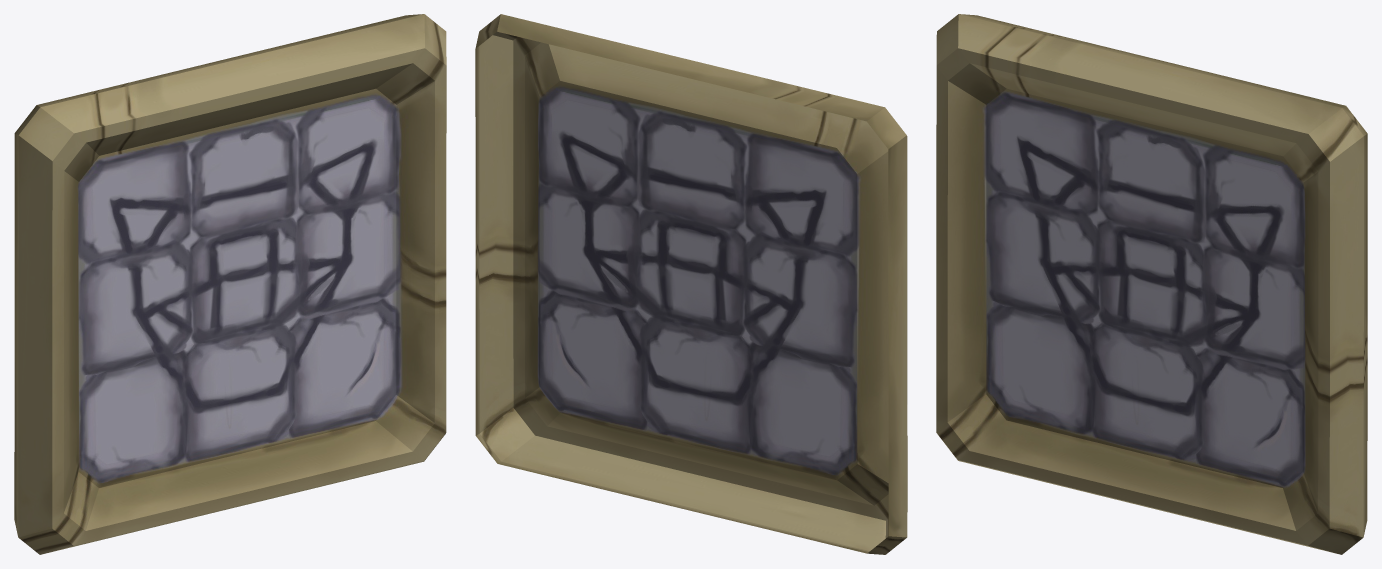
File: puzzle-all.fbx
3 views of the same model, side by side, from view 1: azimuth 30°, elevation 25°; view 2: azimuth 150°, elevation 25°; view 3: azimuth 330°, elevation 25° (orthographic).
Visible parts, largest first — view 1: 畫框; view 2: 畫框; view 3: 畫框.
Boxes of the visible parts, x1,y1,x2,y2 form: 畫框: (14,14,446,554); 畫框: (475,14,907,554); 畫框: (936,14,1367,554).
Size of the model in its own units: 143 by 143 by 16.43.
